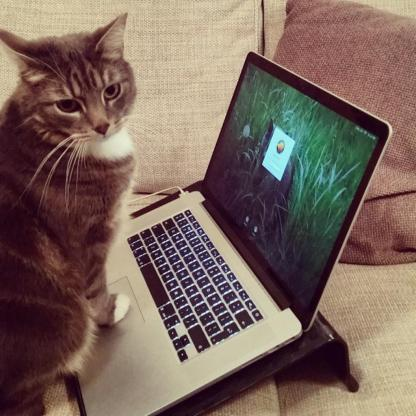board: (75, 49, 392, 416)
